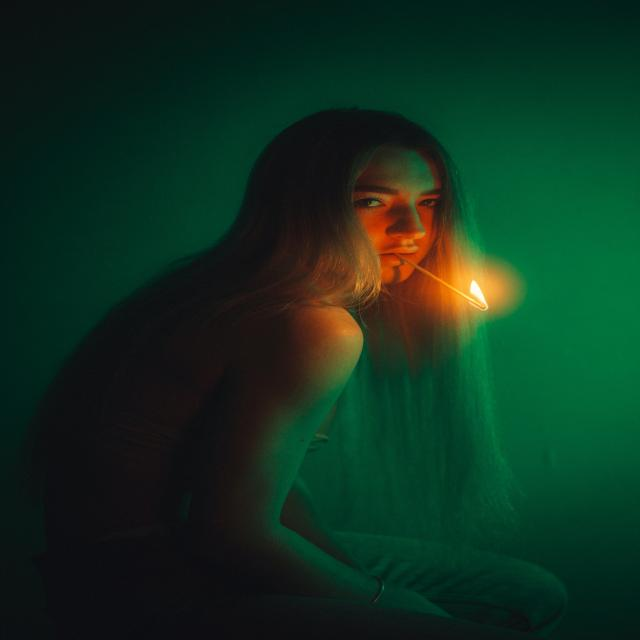fire: (457, 277, 495, 320)
